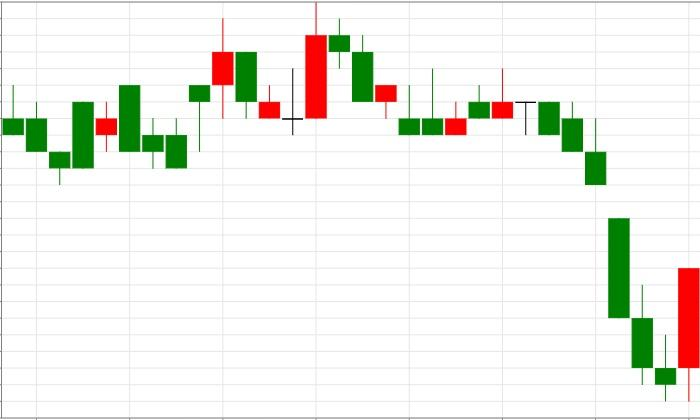morning_star_rise: (211, 1, 327, 136)
